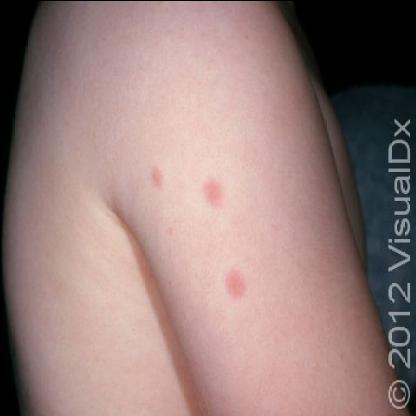Bed Bug: (220, 261, 247, 297), (200, 171, 224, 208), (144, 162, 166, 190)
